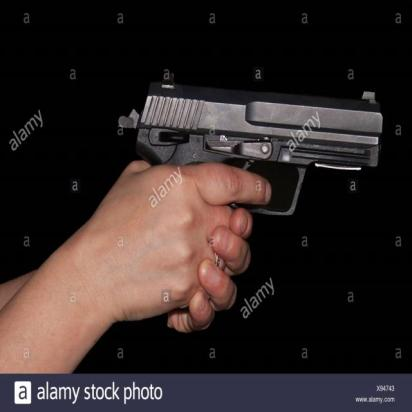Gun: (115, 66, 388, 318)
